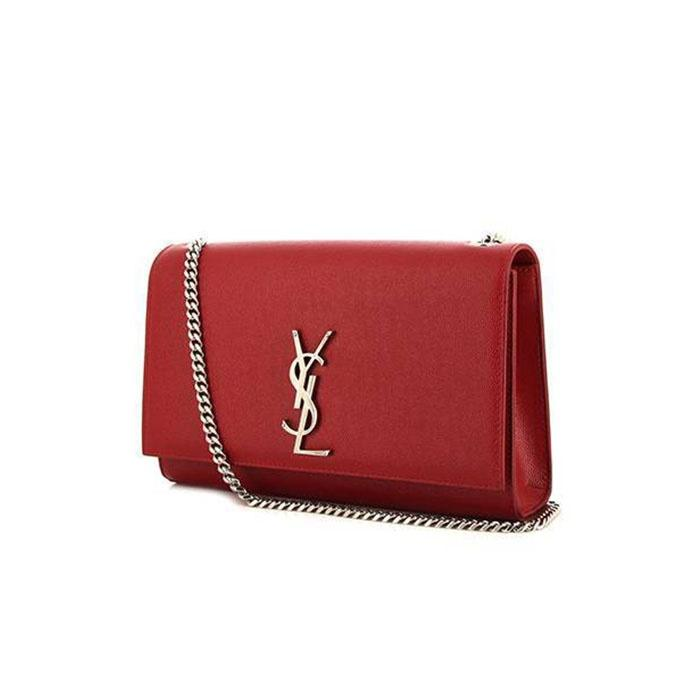YVES-SAINT-LAURENT: (281, 329, 335, 457)
